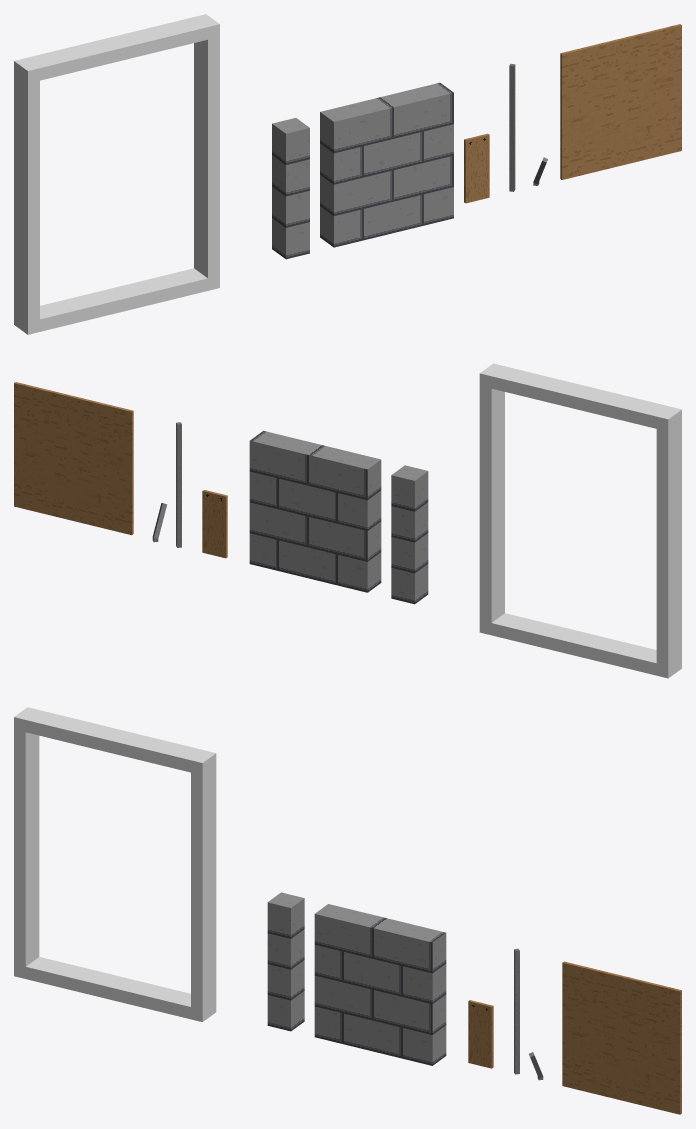
File: BuildingParts.fbx
3 renders of one model, top to bottom at view 1: azimuth 30°, elevation 25°; view 2: azimuth 150°, elevation 25°; view 3: azimuth 330°, elevation 25°, orthographic.
Visible parts, largest first — view 1: DoorFrame, BrickWall, BrickWall.001, BrickPillar, Cube, FencePost; view 2: DoorFrame, BrickWall, BrickWall.001, BrickPillar, Cube, FencePost; view 3: DoorFrame, BrickWall, BrickWall.001, BrickPillar, Cube, FencePost.
Part boxes in pixels (left/top/right/bottom): DoorFrame: left=14, top=14, right=219, bottom=334; BrickWall: left=320, top=82, right=453, bottom=247; BrickWall.001: left=560, top=24, right=681, bottom=179; BrickPillar: left=272, top=118, right=309, bottom=259; Cube: left=464, top=133, right=489, bottom=203; FencePost: left=509, top=63, right=515, bottom=191; DoorFrame: left=479, top=363, right=681, bottom=678; BrickWall: left=249, top=430, right=381, bottom=592; BrickWall.001: left=14, top=382, right=133, bottom=535; BrickPillar: left=391, top=465, right=428, bottom=604; Cube: left=202, top=490, right=227, bottom=558; FencePost: left=176, top=422, right=181, bottom=547; DoorFrame: left=14, top=707, right=216, bottom=1021; BrickWall: left=314, top=904, right=446, bottom=1065; BrickWall.001: left=562, top=961, right=681, bottom=1114; BrickPillar: left=267, top=892, right=304, bottom=1031; Cube: left=468, top=1000, right=493, bottom=1068; FencePost: left=514, top=948, right=519, bottom=1074.
Size of the model in its own units: 5.55 by 0.225 by 2.1.
